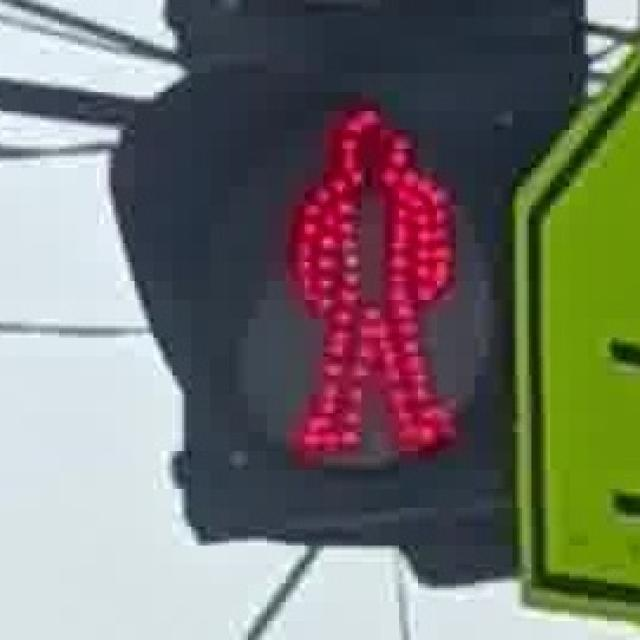red-crossing: (260, 84, 466, 472)
